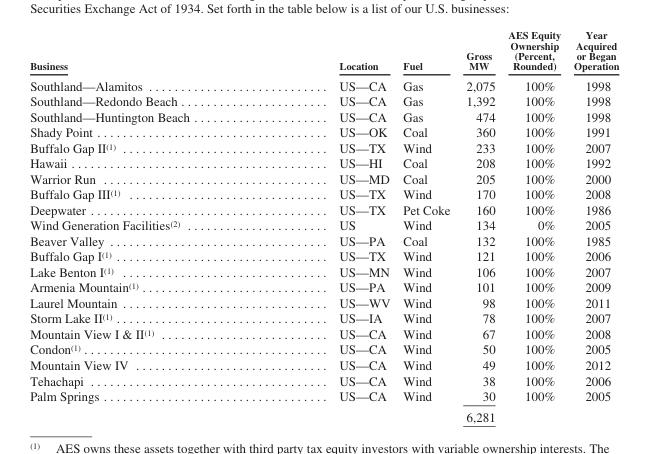table: (29, 28, 618, 423)
table column: (29, 28, 264, 423), (264, 28, 395, 423), (501, 28, 566, 423), (395, 28, 457, 423), (566, 28, 618, 423), (457, 28, 501, 423)
table column header: (29, 28, 618, 74)
table row: (29, 28, 618, 74), (29, 74, 618, 93), (29, 387, 618, 405), (29, 405, 618, 423), (29, 108, 618, 124), (29, 139, 618, 155), (29, 170, 618, 186), (29, 201, 618, 217), (29, 232, 618, 248), (29, 263, 618, 279), (29, 294, 618, 310), (29, 325, 618, 341), (29, 356, 618, 372), (29, 93, 618, 108), (29, 124, 618, 139), (29, 155, 618, 170), (29, 186, 618, 201), (29, 217, 618, 232), (29, 248, 618, 263), (29, 279, 618, 294), (29, 310, 618, 325), (29, 341, 618, 356), (29, 372, 618, 387)
table spanning cell: (29, 387, 264, 423)
